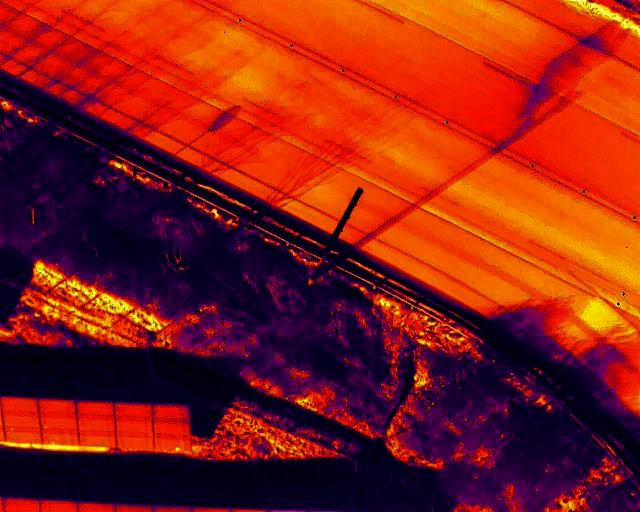Cell: (40, 417, 77, 433), (3, 416, 39, 432), (42, 432, 80, 445), (154, 438, 189, 450)
No-Anomaly: (114, 403, 153, 421), (39, 399, 77, 417), (77, 400, 114, 417), (153, 405, 189, 422), (116, 421, 154, 437), (78, 418, 115, 434), (1, 398, 38, 414), (154, 422, 190, 438), (117, 436, 153, 449), (79, 434, 115, 446), (5, 432, 41, 443)
